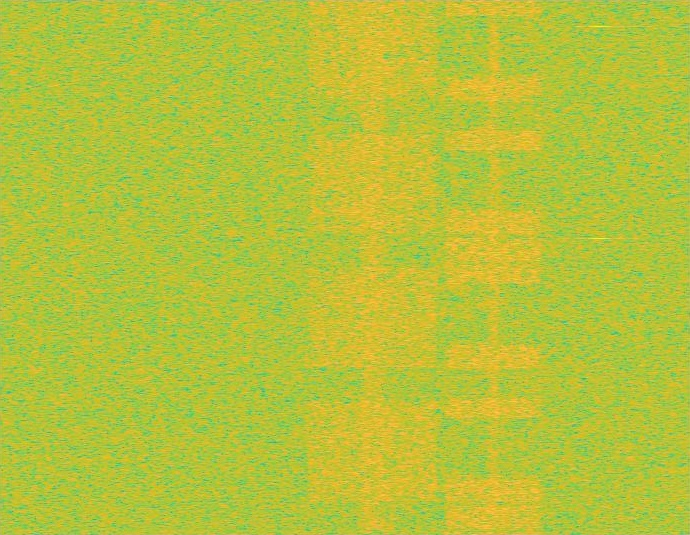5G: (304, 0, 442, 534)
DSSS: (357, 0, 388, 534), (486, 0, 500, 534)
LTE: (442, 0, 545, 534)
Radar: (593, 0, 607, 534)
